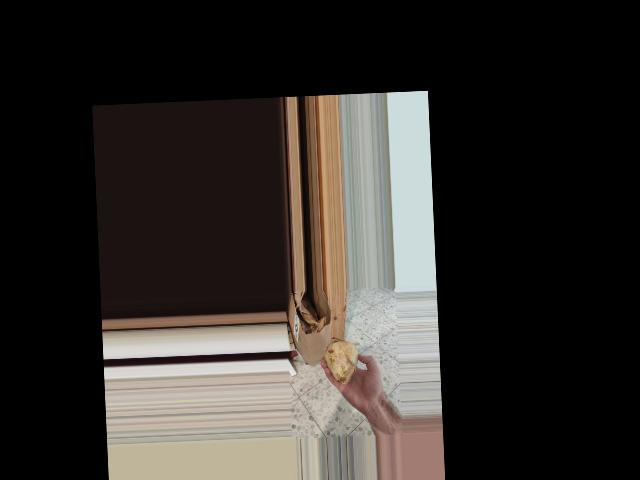onion: (322, 335, 360, 388)
